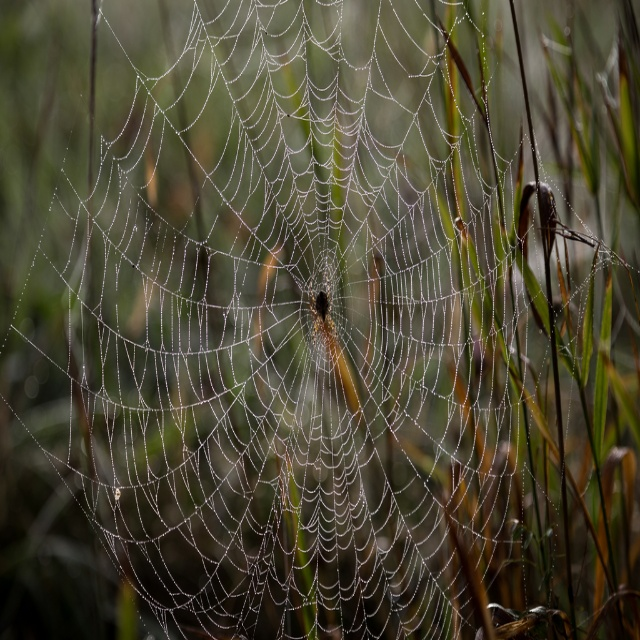Spider: (307, 273, 339, 353)
